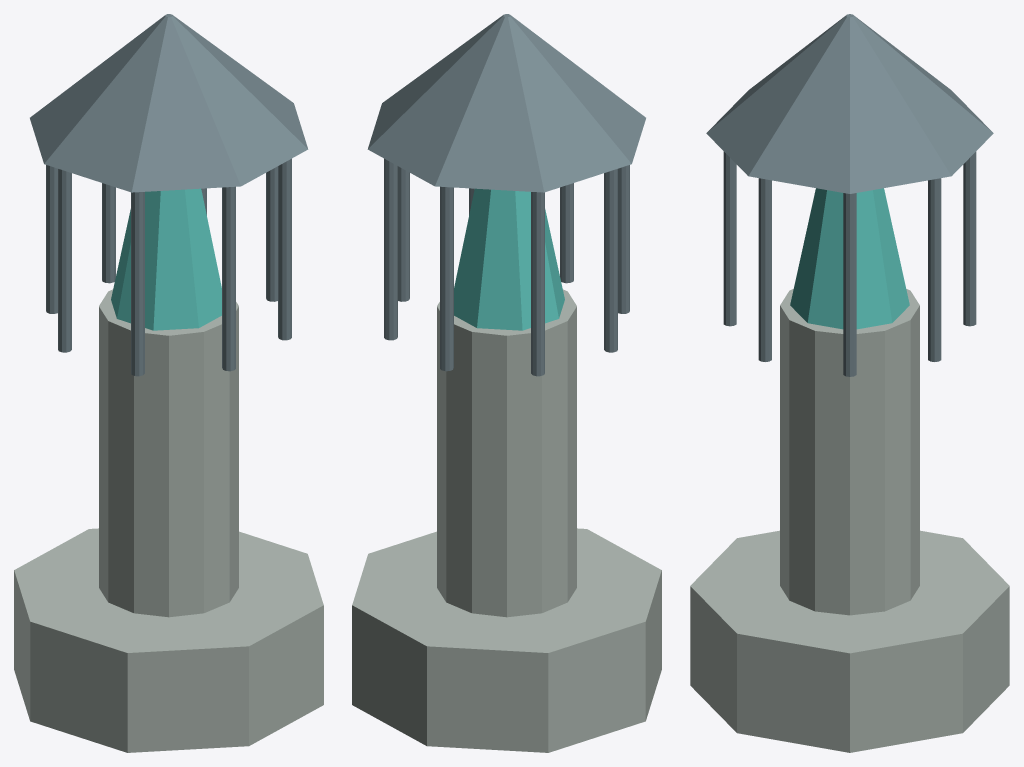
Rendered from a5_beacon.glb.
3 views of the same model, side by side, from view 1: azimuth 30°, elevation 25°; view 2: azimuth 150°, elevation 25°; view 3: azimuth 270°, elevation 25° (orthographic).
Visible parts, largest first — view 1: Body.079; view 2: Body.079; view 3: Body.079.
Boxes of the visible parts, x1=… form: Body.079: x1=14, y1=14, x2=323, y2=752; Body.079: x1=352, y1=14, x2=661, y2=752; Body.079: x1=690, y1=14, x2=1009, y2=752.
Bounding box in the file's own units: 1.6 × 3.7 × 1.6.
